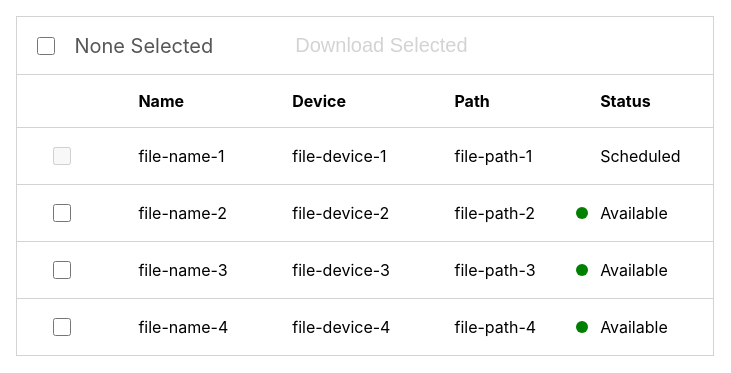
it selects all available rows if select all is clicked and no rows are checked
Check: the checkbox named "Select " is not checked, box top-left (53, 204), bottom-right (71, 222)
# Click select all checkbox
Click the checkbox labelled "None Selected" at [46, 46], box top-left (37, 36), bottom-right (55, 54)
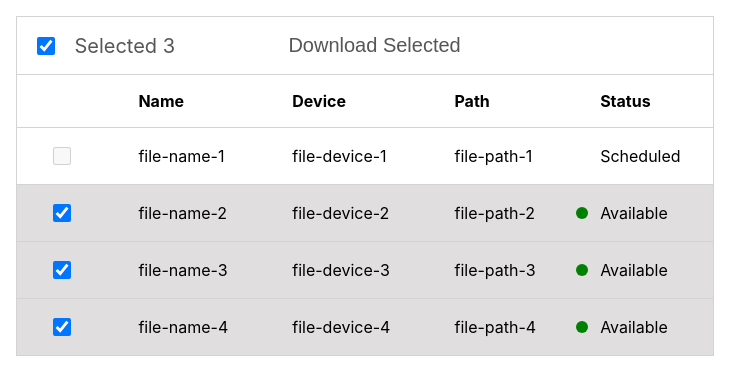
Check: the checkbox named "Select " is not checked, box top-left (53, 147), bottom-right (71, 165)
Check: the checkbox named "None Selected" is checked, box top-left (37, 36), bottom-right (55, 54)
Check: the checkbox named "Select " is checked, box top-left (53, 204), bottom-right (71, 222)
